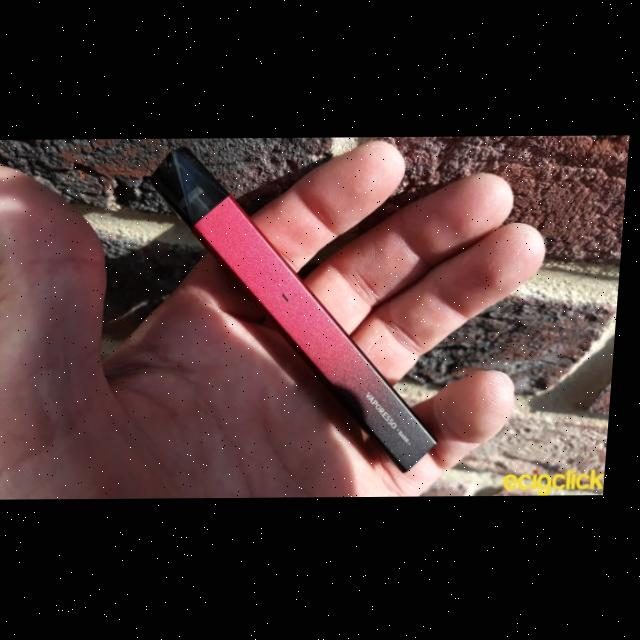vape: (135, 143, 460, 475)
